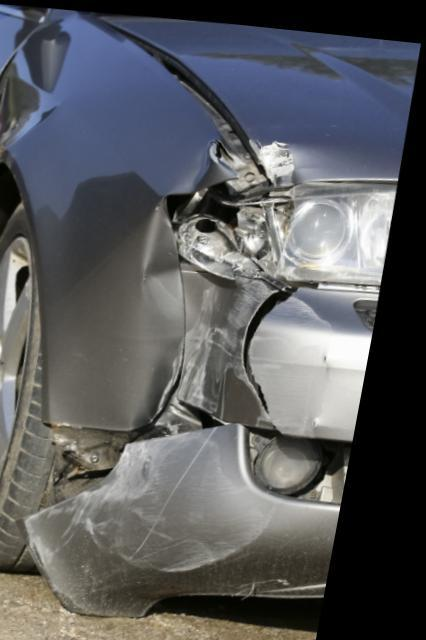crack: (253, 278, 307, 408)
dent: (148, 133, 223, 419), (188, 266, 297, 409), (0, 71, 54, 148), (252, 129, 303, 175)
dislocated part: (41, 396, 358, 619)
lamp broken: (179, 173, 403, 280)
scratch: (38, 416, 297, 569), (262, 286, 347, 428)
